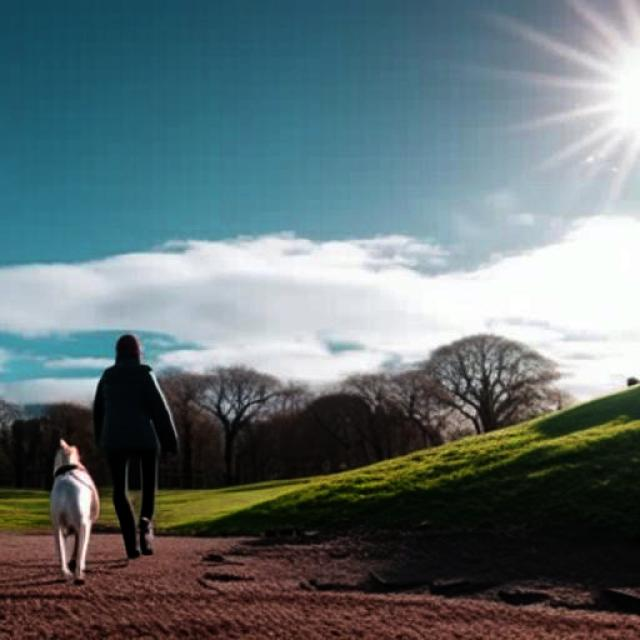Unleashed_Dog: (48, 426, 156, 584)
